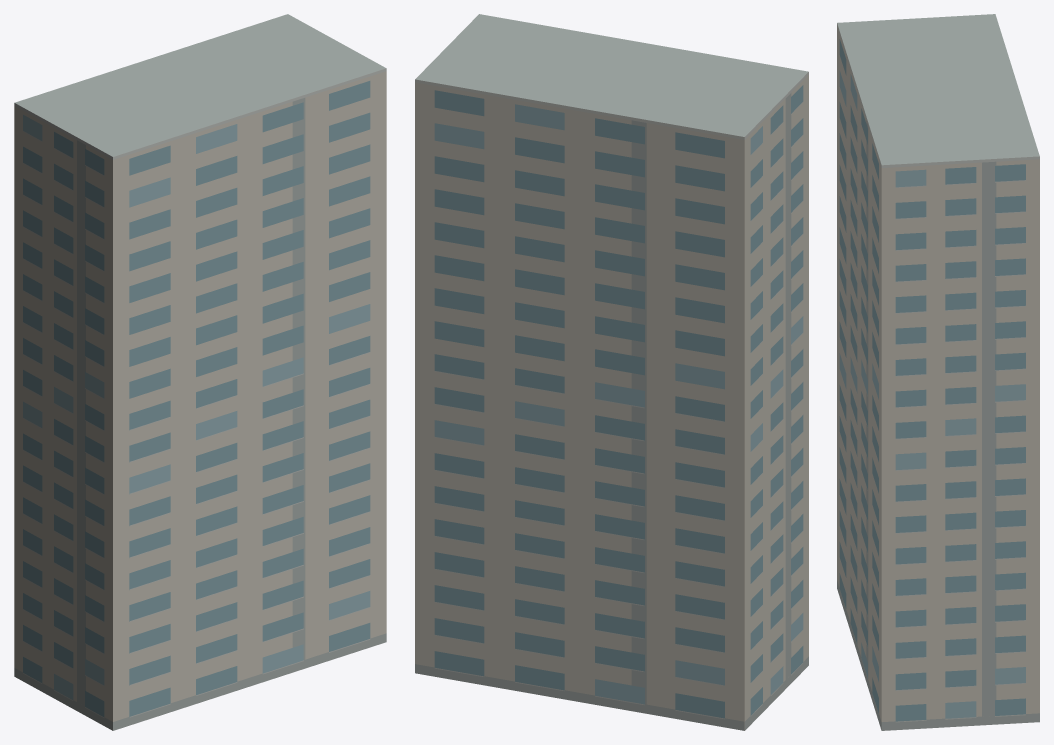
The model's file is residential-b23c4828-a7f7-4c5b-9f1b-aa20e98d4873.glb.
3 views of the same model, side by side, from view 1: azimuth 30°, elevation 25°; view 2: azimuth 150°, elevation 25°; view 3: azimuth 270°, elevation 25° (orthographic). The views are drawn at different scales.
Visible parts, largest first — view 1: residential-b23c4828-a7f7-4c5b-9f1b-aa20e98d4873.tmp; view 2: residential-b23c4828-a7f7-4c5b-9f1b-aa20e98d4873.tmp; view 3: residential-b23c4828-a7f7-4c5b-9f1b-aa20e98d4873.tmp.
Boxes of the visible parts, x1,y1,x2,y2 form: residential-b23c4828-a7f7-4c5b-9f1b-aa20e98d4873.tmp: (14, 14, 386, 730); residential-b23c4828-a7f7-4c5b-9f1b-aa20e98d4873.tmp: (415, 14, 808, 730); residential-b23c4828-a7f7-4c5b-9f1b-aa20e98d4873.tmp: (837, 14, 1039, 730).
Bounding box in the file's own units: 27.53 × 48 × 15.61.
